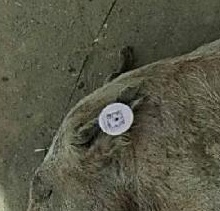text: (92, 96, 140, 142)
